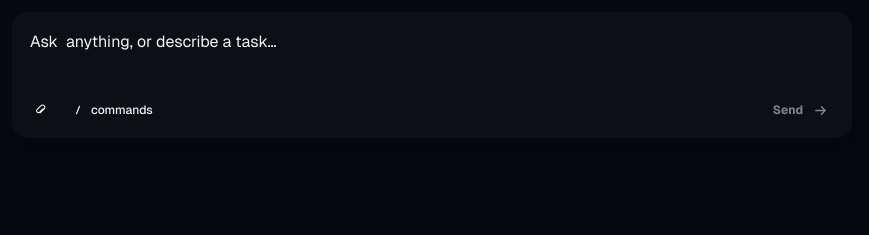
Test: Composer image paste › shows a persistent slash command preview once arguments are being typed
Type "/skill-echo hello there" into the text box with placeholder "Ask anything, or describe a task…" at (432, 50), box left=12, top=12, right=852, bottom=88
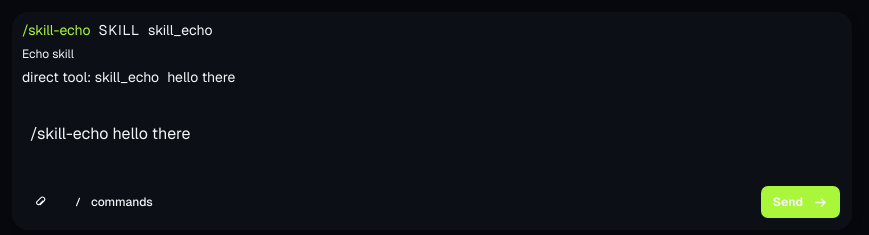
Check: the element with test id "slash-preview" shows "/skill-echo", box left=22, top=21, right=91, bottom=39
Check: the element with test id "slash-preview" shows "echo skill", box left=22, top=46, right=74, bottom=62
Check: the element with test id "slash-preview" shows "direct tool: skill_echo", box left=22, top=68, right=159, bottom=86
